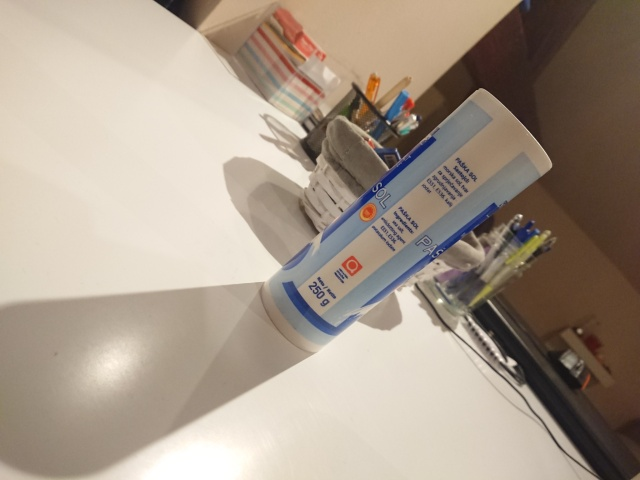Solana Pag Fine Sea Salt 250g: (255, 85, 556, 356)
